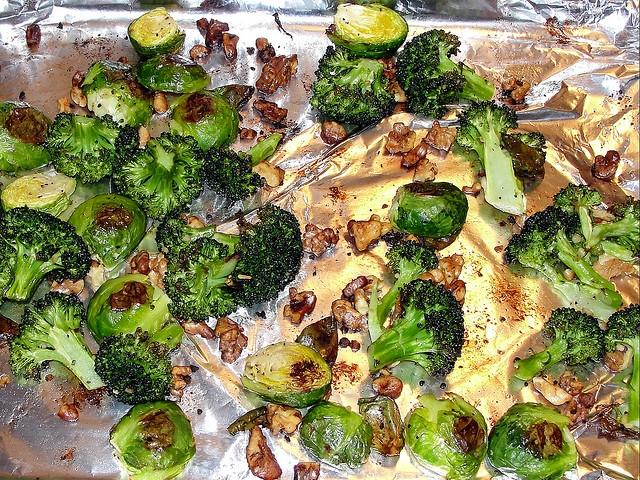broccoli: (504, 206, 623, 308), (208, 201, 304, 308), (7, 290, 108, 390), (366, 278, 467, 376), (396, 29, 496, 117), (0, 207, 91, 303), (456, 100, 527, 216), (114, 131, 204, 220), (94, 322, 184, 406), (308, 44, 397, 127), (513, 307, 607, 381), (44, 112, 140, 184), (164, 238, 238, 322), (199, 132, 282, 202), (376, 240, 439, 326), (388, 182, 468, 238), (603, 303, 640, 423), (588, 194, 640, 258), (552, 183, 602, 216)
brussels sprouts: (404, 393, 488, 479), (487, 402, 578, 480), (110, 400, 198, 480), (86, 273, 177, 345), (66, 192, 148, 268), (241, 341, 333, 408), (78, 60, 154, 131), (300, 400, 374, 470), (324, 2, 409, 60), (168, 89, 240, 153), (388, 182, 468, 238), (2, 100, 58, 174), (1, 169, 77, 218), (132, 54, 212, 94), (127, 7, 186, 61), (358, 394, 407, 458)
